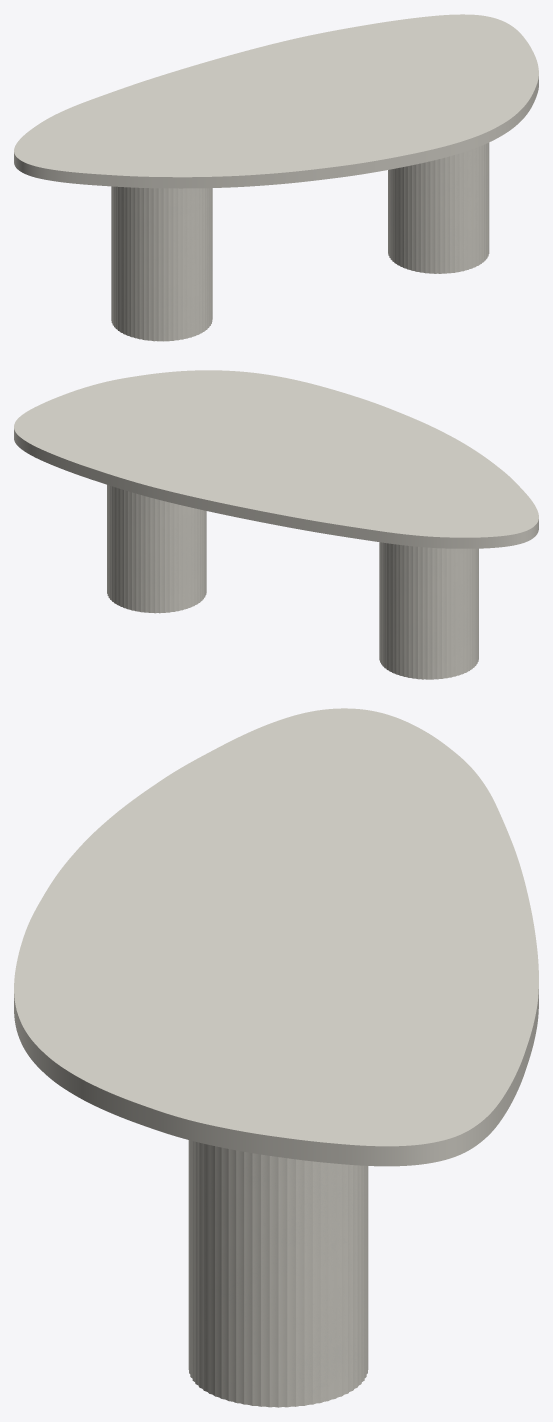
File: pale_pebbletop_standard_ripplesecond.glb
3 views of the same model, one above another, from view 1: azimuth 30°, elevation 25°; view 2: azimuth 150°, elevation 25°; view 3: azimuth 270°, elevation 25° (orthographic). The views are drawn at different scales.
Visible parts, largest first — view 1: standard_pebbletop, ripplesecond; view 2: standard_pebbletop, ripplesecond; view 3: standard_pebbletop, ripplesecond.
Part boxes in pixels (box(x1,y1,x2,y2)): standard_pebbletop: box(14, 14, 538, 188); ripplesecond: box(111, 142, 489, 341); standard_pebbletop: box(14, 370, 538, 548); ripplesecond: box(107, 485, 478, 679); standard_pebbletop: box(14, 708, 538, 1166); ripplesecond: box(188, 1140, 368, 1407).
Bounding box in the file's own units: 7.5 × 2.51 × 3.8.
1 material, 1 textured.
